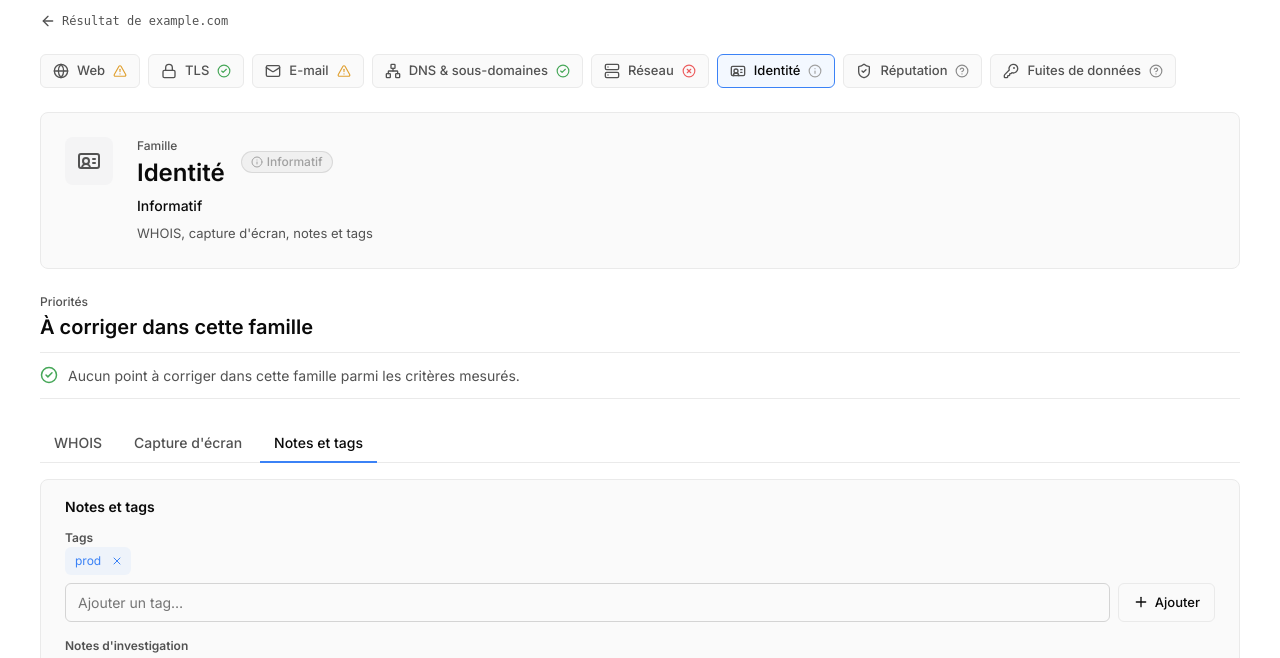
Test: notes et tags › garde la saisie et explique un refus du serveur
The image size is (1280, 658).
Type "refusé" into the field with placeholder "Ajouter un tag…". click: (587, 602)
box: [65,583,1110,622]
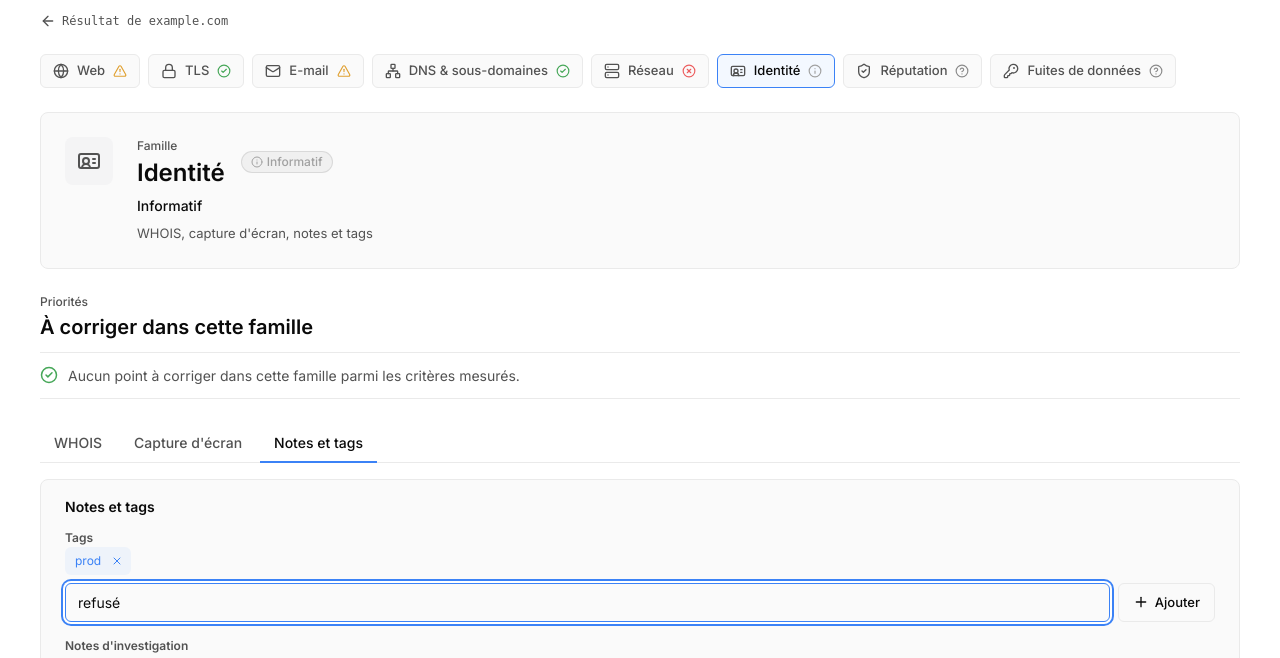
Click the button "Ajouter". click: (1166, 602)
box: [1118,583,1215,622]
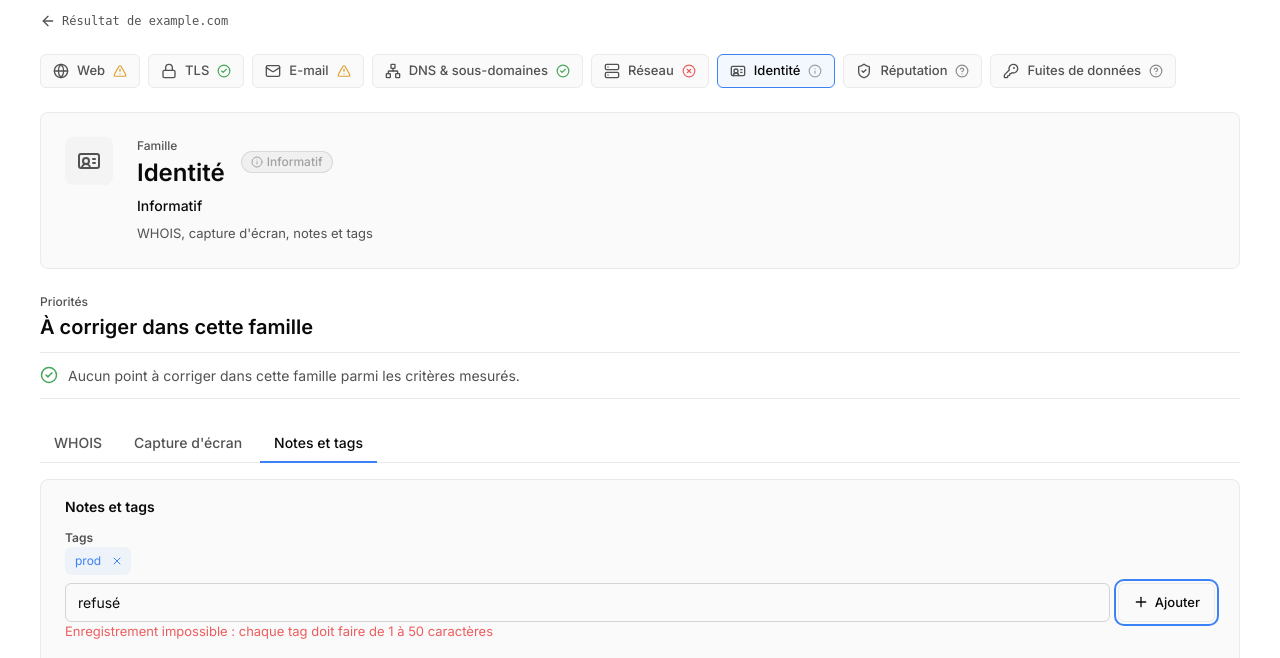
Expected: the text "Enregistrement impossible : chaque tag doit faire de 1 à 50 caractères" is shown, [65,623,493,639]
